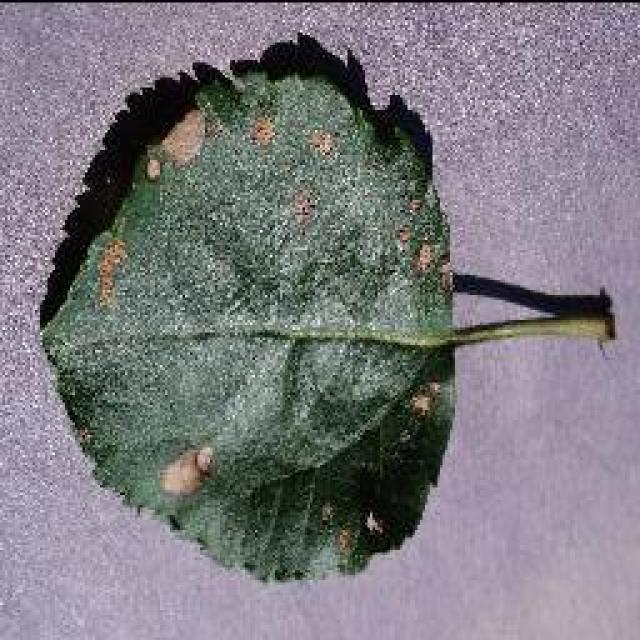Black_rot: (35, 30, 615, 585)
